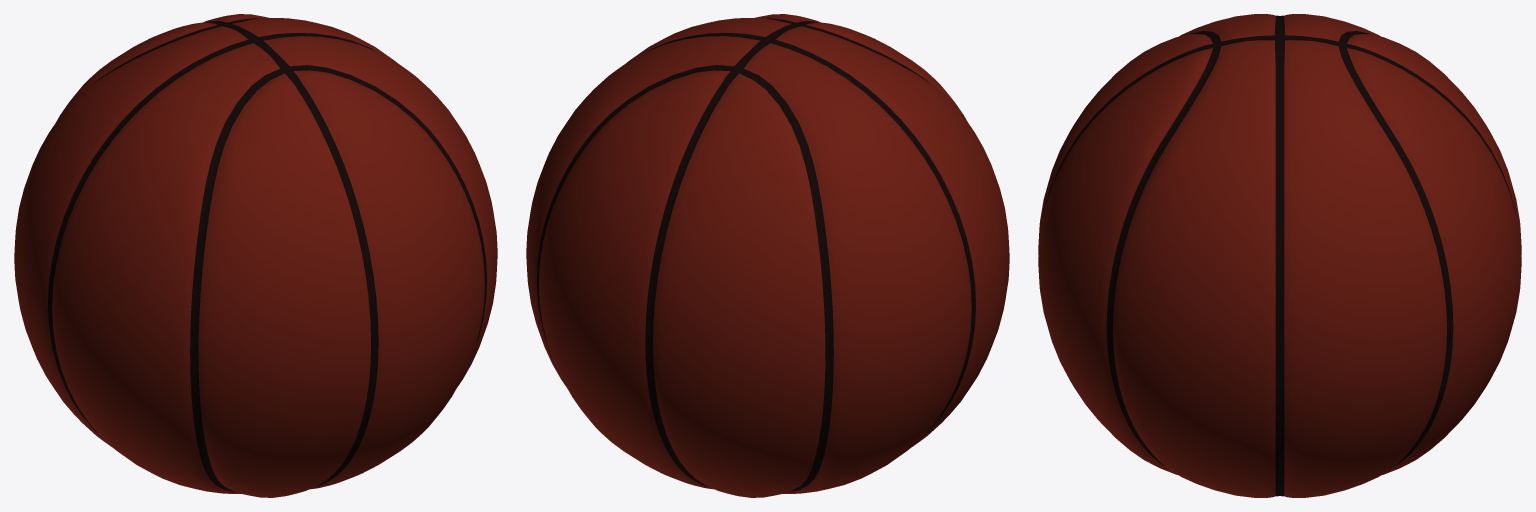
File: basket_ball.glb
3 views of the same model, side by side, from view 1: azimuth 30°, elevation 25°; view 2: azimuth 150°, elevation 25°; view 3: azimuth 270°, elevation 25° (orthographic).
Parts seen in each view (by area): view 1: Cube_2; view 2: Cube_2; view 3: Cube_2.
Boxes of the visible parts, left/top/right/bottom form: Cube_2: left=14, top=14, right=497, bottom=497; Cube_2: left=526, top=14, right=1009, bottom=497; Cube_2: left=1038, top=14, right=1521, bottom=497.
Size of the model in its own units: 1.61 by 1.6 by 1.61.
